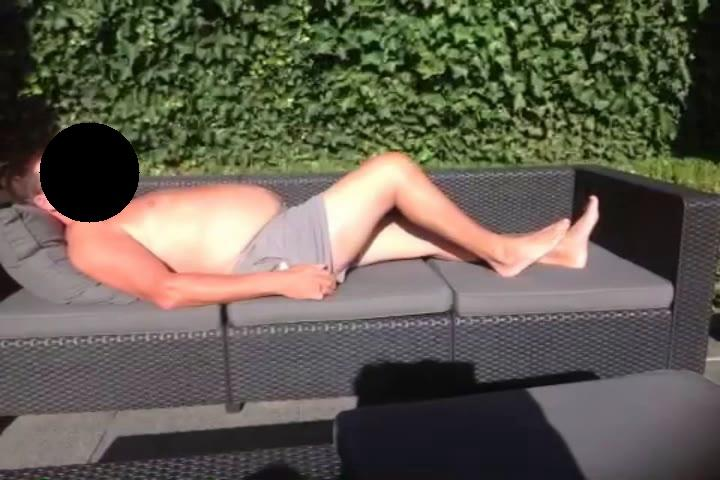lower_body: (269, 151, 602, 284)
